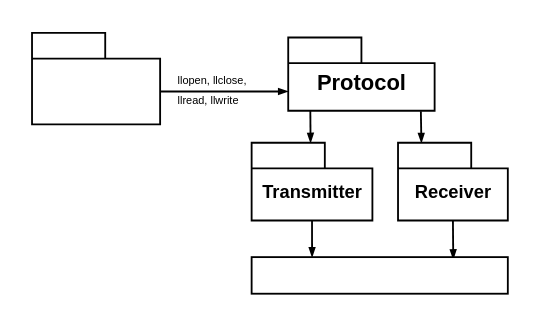
This 540x326 diagram has some shape labels left out. The shapes that lost their labels are listed below. From the top down, each one's centre as x and y in pixels, then its label:
point 95,77: App
point 379,274: Serial Port
